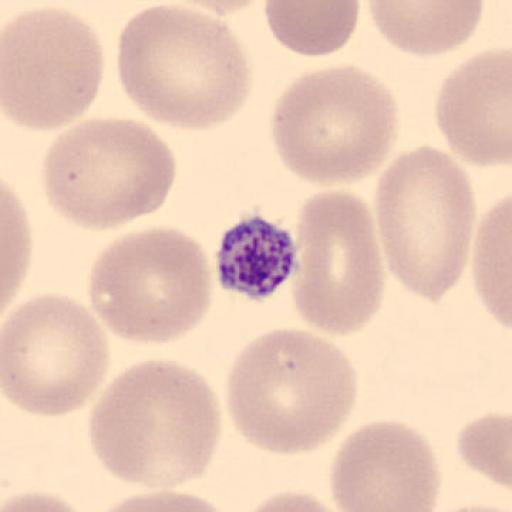Platelet: (213, 213, 303, 303)
RBC: (115, 2, 252, 132), (89, 358, 221, 492), (225, 326, 358, 456), (268, 63, 400, 187), (372, 146, 476, 301), (40, 116, 178, 232), (86, 224, 214, 346), (289, 187, 385, 338), (1, 291, 111, 420), (2, 6, 106, 134), (328, 417, 442, 512), (435, 46, 512, 168), (364, 0, 486, 58), (262, 0, 362, 58), (472, 193, 512, 332), (0, 177, 33, 315), (455, 410, 512, 488), (92, 491, 240, 512), (0, 479, 92, 512), (235, 489, 354, 512), (0, 489, 98, 512), (150, 0, 270, 17), (421, 503, 512, 512)
